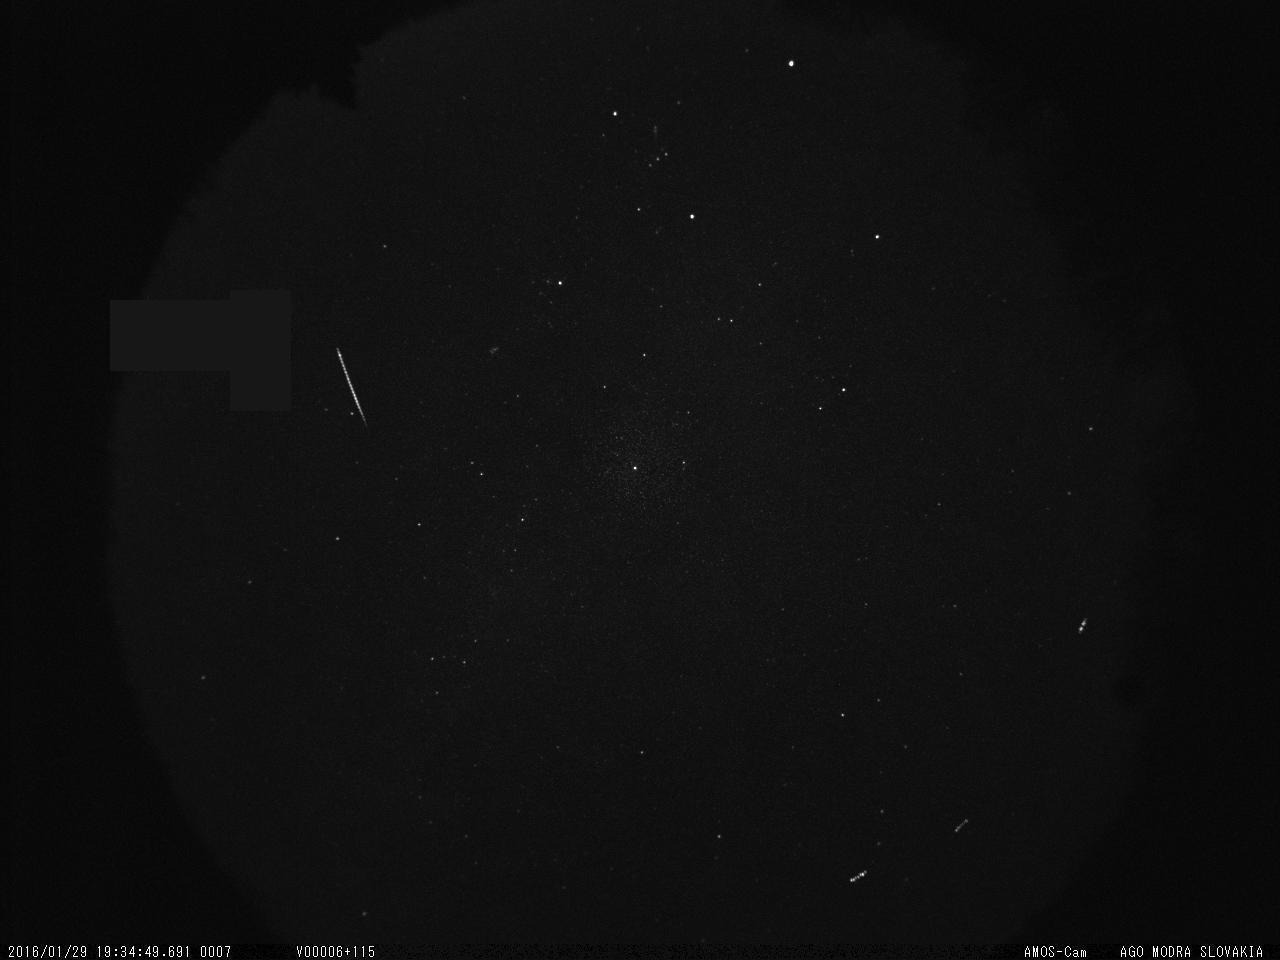Meteor: (333, 346, 368, 427)
